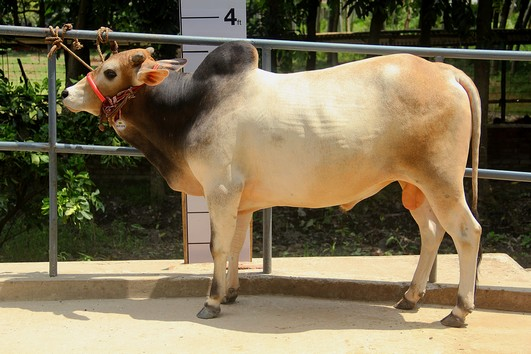cow: (52, 32, 488, 327)
